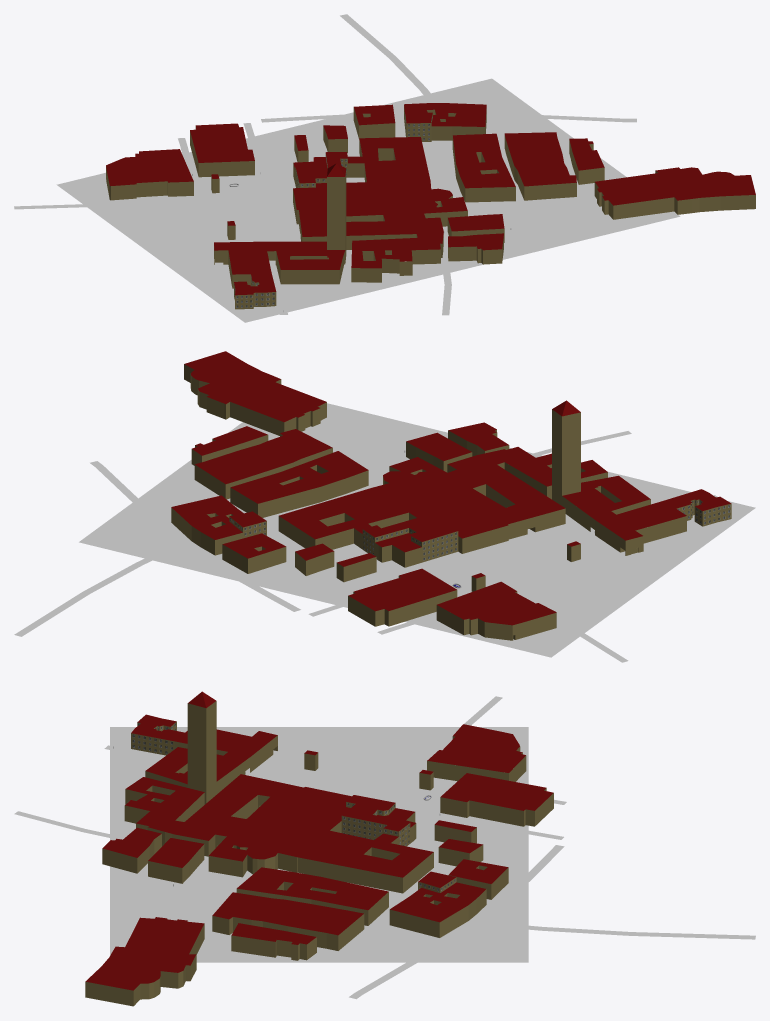
The model's file is rome.obj.
The picture shows the model from 3 angles, top to bottom: view 1: azimuth 30°, elevation 25°; view 2: azimuth 150°, elevation 25°; view 3: azimuth 270°, elevation 25°; orthographic projection. The views are drawn at different scales.
Parts seen in each view (by area): view 1: SurfaceArea94, Building71, Building Basilica di San Prospero, RoadArea Piazza Camillo Prampolini, Building Palazzo del Comune, Building73, Building Palazzo del Monte di Pietà, Building Cattedrale di Santa Maria Assunta, Building81, RoadArea Piazza San Prospero, Building70, Building Torre del Bordello (+21 smaller); view 2: SurfaceArea94, Building71, Building Basilica di San Prospero, RoadArea Piazza Camillo Prampolini, Building Palazzo del Comune, Building73, Building Cattedrale di Santa Maria Assunta, Building Palazzo del Monte di Pietà, Building Torre del Bordello, Building87, RoadArea Piazza San Prospero, Building81 (+21 smaller); view 3: SurfaceArea94, Building71, Building Basilica di San Prospero, RoadArea Piazza Camillo Prampolini, Building Cattedrale di Santa Maria Assunta, Building Palazzo del Monte di Pietà, Building73, Building Palazzo del Comune, Building Torre del Bordello, Building81, RoadArea Piazza San Prospero, Building72 (+19 smaller).
Part boxes in pixels (x1,y1,x2,y2): SurfaceArea94: [56, 78, 680, 322]; Building71: [293, 137, 450, 282]; Building Basilica di San Prospero: [594, 167, 755, 219]; RoadArea Piazza Camillo Prampolini: [194, 175, 297, 249]; Building Palazzo del Comune: [214, 241, 345, 284]; Building73: [106, 149, 193, 200]; Building Palazzo del Monte di Pietà: [190, 123, 254, 177]; Building Cattedrale di Santa Maria Assunta: [293, 181, 452, 224]; Building81: [511, 152, 576, 200]; RoadArea Piazza San Prospero: [466, 195, 605, 229]; Building70: [456, 162, 515, 202]; Building Torre del Bordello: [327, 163, 346, 264]; SurfaceArea94: [79, 403, 755, 657]; Building71: [278, 447, 607, 553]; Building Basilica di San Prospero: [184, 351, 326, 435]; RoadArea Piazza Camillo Prampolini: [404, 523, 616, 596]; Building Palazzo del Comune: [562, 475, 668, 555]; Building73: [436, 581, 556, 640]; Building Cattedrale di Santa Maria Assunta: [372, 471, 509, 538]; Building Palazzo del Monte di Pietà: [348, 568, 457, 626]; Building Torre del Bordello: [552, 400, 580, 505]; Building87: [362, 516, 458, 562]; RoadArea Piazza San Prospero: [303, 419, 409, 485]; Building81: [236, 429, 332, 474]; SurfaceArea94: [110, 727, 528, 962]; Building71: [124, 774, 433, 893]; Building Basilica di San Prospero: [85, 917, 204, 1006]; RoadArea Piazza Camillo Prampolini: [250, 752, 455, 826]; Building Cattedrale di Santa Maria Assunta: [235, 787, 351, 874]; Building Palazzo del Monte di Pietà: [440, 773, 553, 826]; Building73: [427, 724, 526, 781]; Building Palazzo del Comune: [145, 729, 277, 794]; Building Torre del Bordello: [187, 691, 216, 804]; Building81: [212, 892, 309, 934]; RoadArea Piazza San Prospero: [150, 867, 243, 937]; Building72: [289, 904, 364, 950].
Bounding box in the file's own units: 316 × 51.01 × 319.
